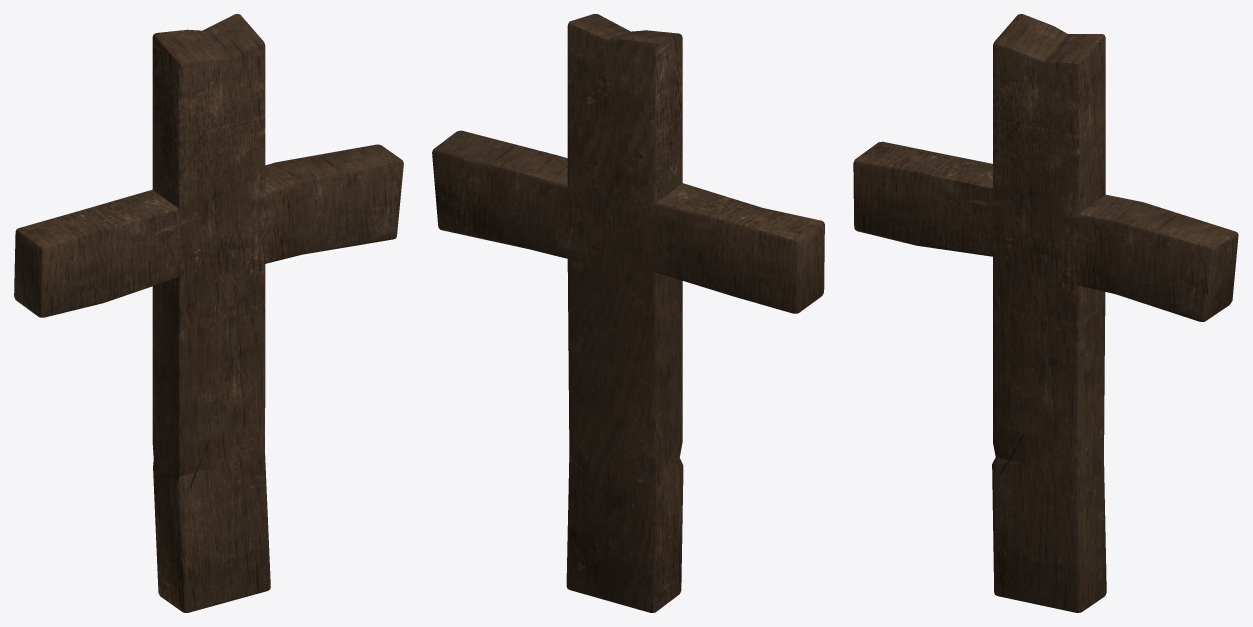
File: cruce.fbx
3 renders of one model, left to right at view 1: azimuth 30°, elevation 25°; view 2: azimuth 150°, elevation 25°; view 3: azimuth 330°, elevation 25°, orthographic. The views are drawn at different scales.
Parts seen in each view (by area): view 1: Cube; view 2: Cube; view 3: Cube.
Part boxes in pixels (x1,y1,x2,y2): Cube: (14, 14, 403, 612); Cube: (432, 14, 824, 612); Cube: (853, 14, 1238, 612).
Bounding box in the file's own units: 29.86 × 44.12 × 4.92.
